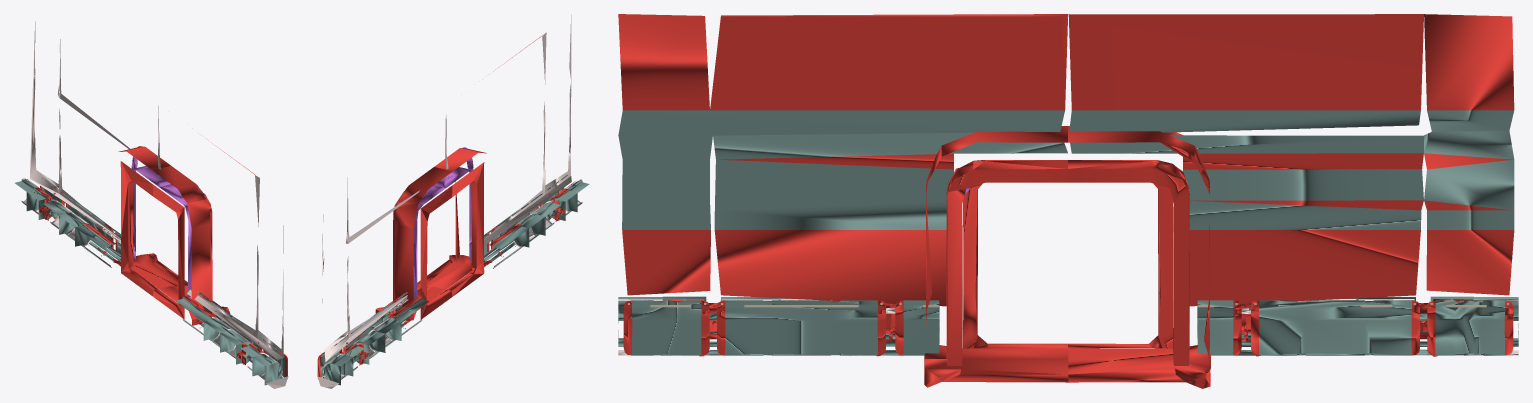
File: deluxe_wall_doorframe_16x08_a.glb
The picture shows the model from 3 angles, left to right: view 1: azimuth 30°, elevation 25°; view 2: azimuth 150°, elevation 25°; view 3: azimuth 270°, elevation 25°; orthographic projection. The views are drawn at different scales.
Bounding box in the file's own units: 1.74 × 6.02 × 14.22.
